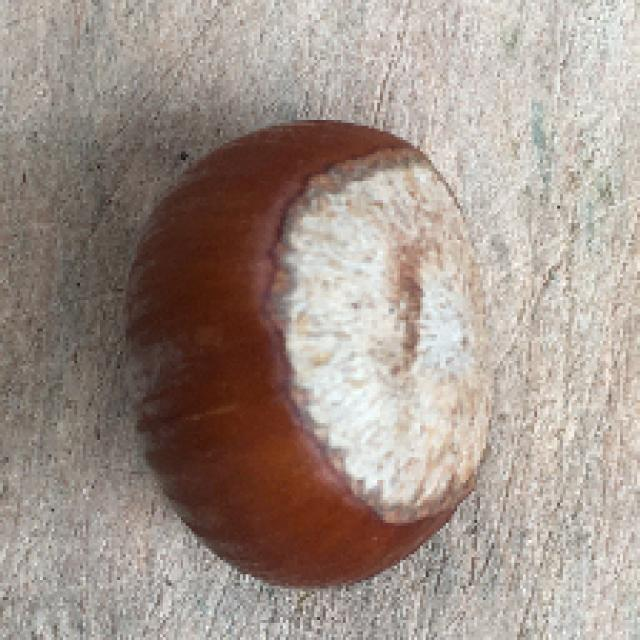qualityHazelnut: (118, 114, 494, 590)
